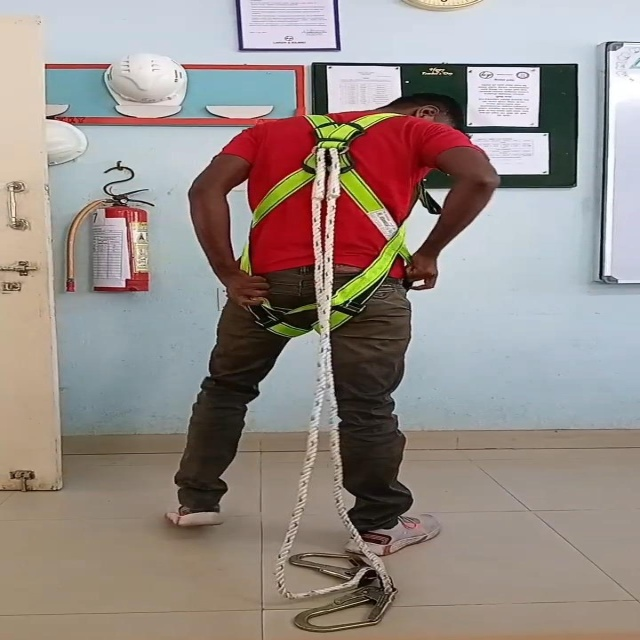Arnes_seguridad: (227, 103, 431, 342)
